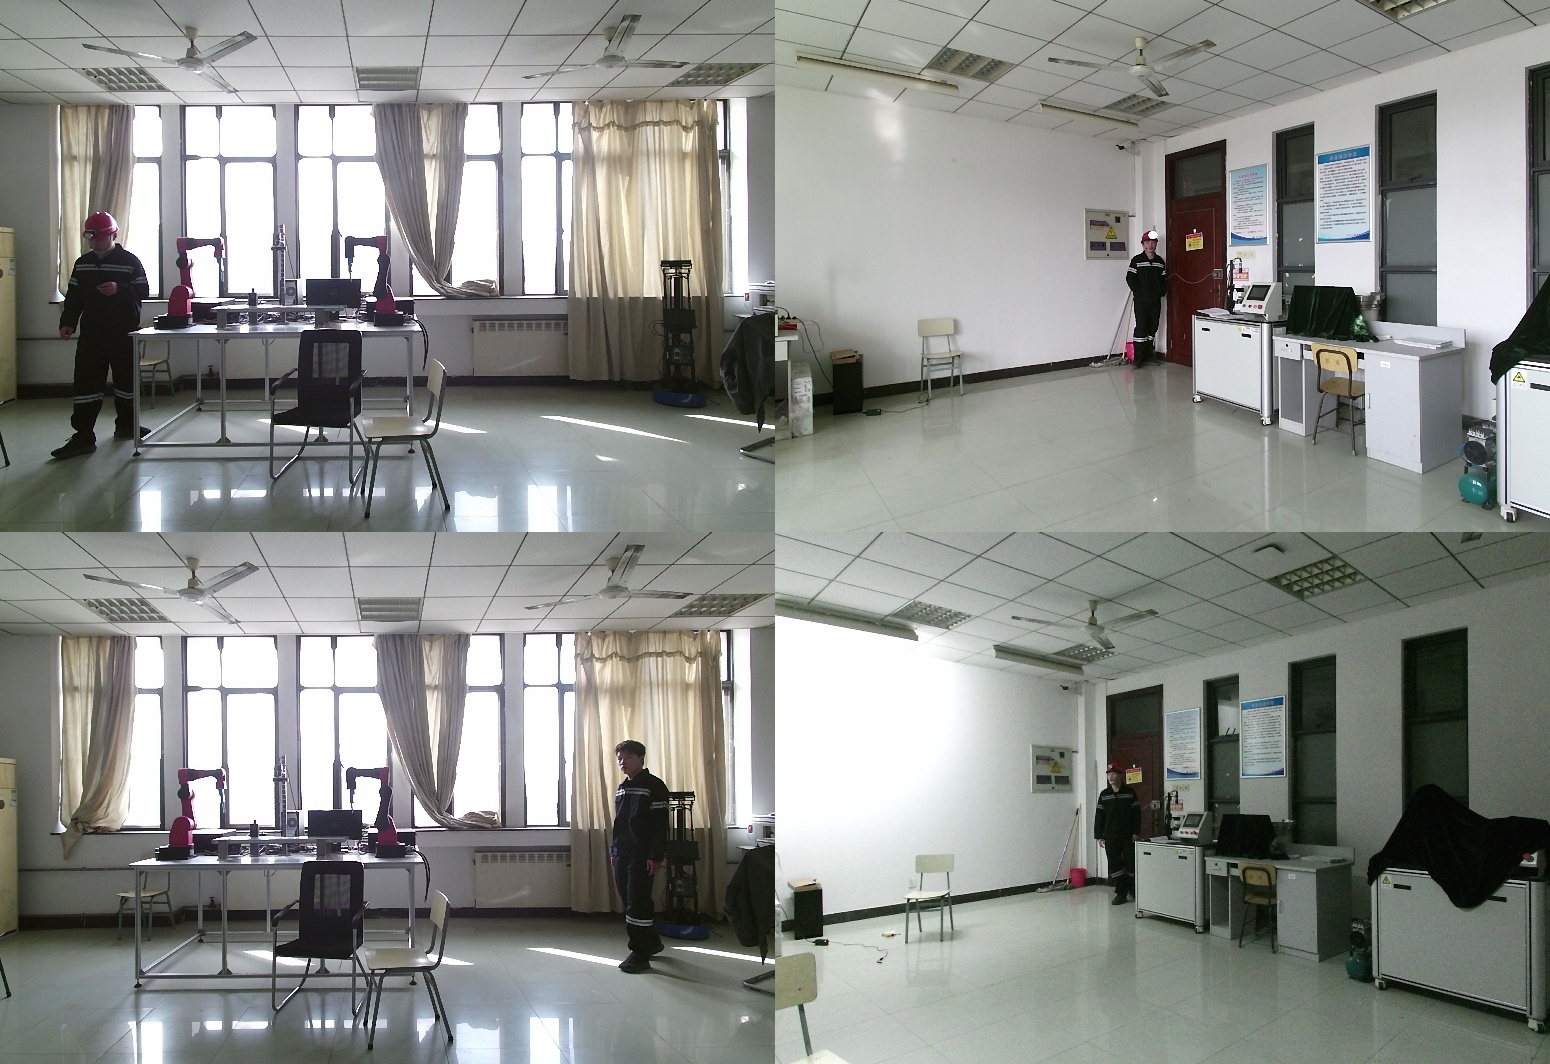person: (58, 215, 151, 459), (616, 742, 683, 977), (1091, 761, 1150, 911), (1124, 232, 1167, 371)
